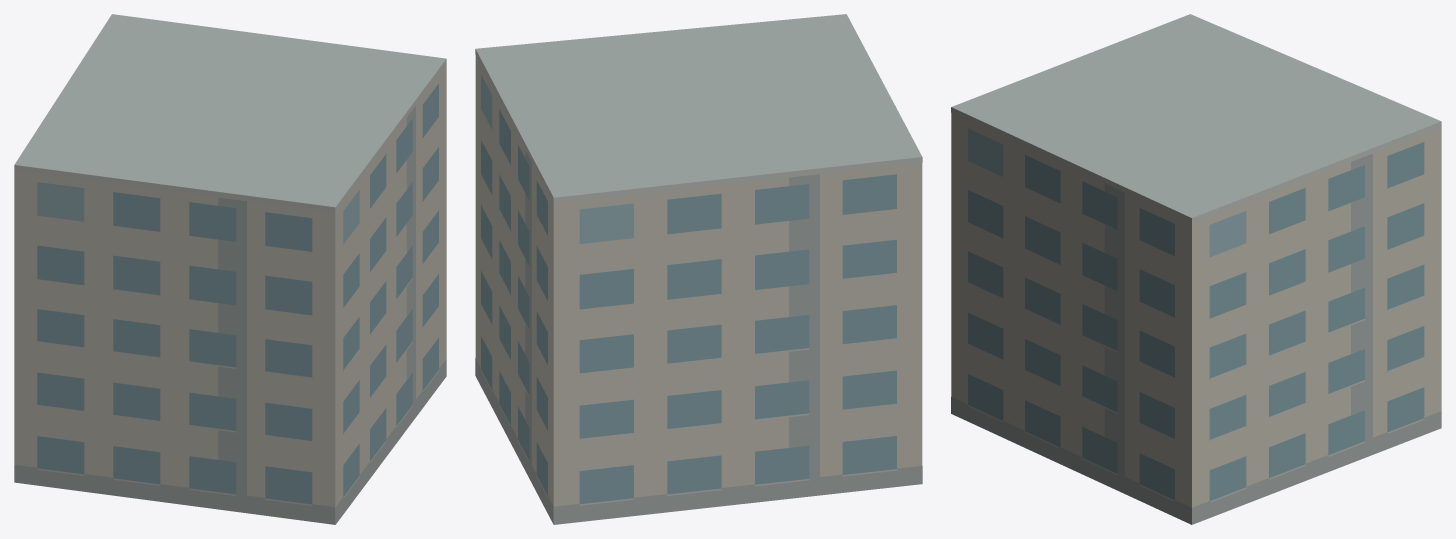
File: survey-upis-32838980.glb
3 views of the same model, side by side, from view 1: azimuth 30°, elevation 25°; view 2: azimuth 150°, elevation 25°; view 3: azimuth 270°, elevation 25° (orthographic). The views are drawn at different scales.
Visible parts, largest first — view 1: survey-upis-32838980.tmp; view 2: survey-upis-32838980.tmp; view 3: survey-upis-32838980.tmp.
Part boxes in pixels (x1,y1,x2,y2): survey-upis-32838980.tmp: (14, 14, 446, 524); survey-upis-32838980.tmp: (475, 14, 922, 524); survey-upis-32838980.tmp: (951, 14, 1441, 524).
Size of the model in its own units: 19.42 by 13.6 by 19.72.
